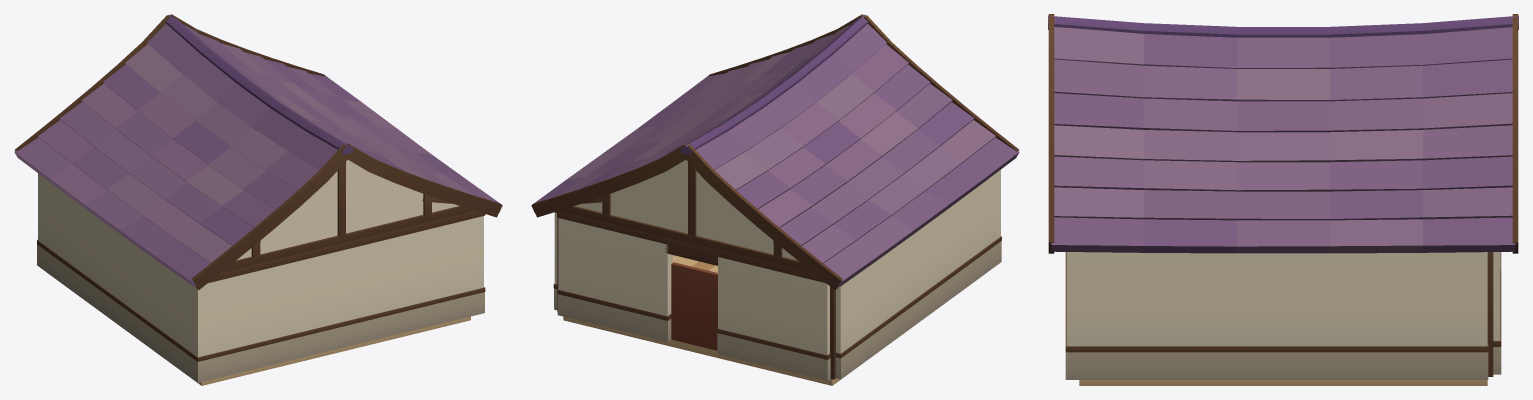
File: workshop_interior_32.glb
3 views of the same model, side by side, from view 1: azimuth 30°, elevation 25°; view 2: azimuth 150°, elevation 25°; view 3: azimuth 270°, elevation 25° (orthographic). The views are drawn at different scales.
Parts seen in each view (by area): view 1: workshop_roof, workshop_Wände, workshop_Balken, workshop_Boden; view 2: workshop_roof, workshop_Frontwand, workshop_Wände, workshop_Tür, workshop_Boden, workshop_Balken; view 3: workshop_roof, workshop_Wände, workshop_Balken, workshop_Boden, workshop_Frontwand.
Boxes of the visible parts, box(x1,y1,x2,y2) form: workshop_roof: box(14, 14, 502, 289); workshop_Wände: box(37, 173, 484, 382); workshop_Balken: box(37, 211, 485, 361); workshop_Boden: box(53, 277, 470, 385); workshop_roof: box(531, 14, 1019, 289); workshop_Frontwand: box(557, 211, 830, 380); workshop_Wände: box(554, 170, 1001, 379); workshop_Tür: box(671, 262, 717, 350); workshop_Boden: box(563, 255, 955, 385); workshop_Balken: box(553, 211, 1001, 379); workshop_roof: box(1048, 14, 1518, 253); workshop_Wände: box(1065, 252, 1488, 379); workshop_Balken: box(1065, 252, 1493, 376); workshop_Boden: box(1079, 380, 1487, 385); workshop_Frontwand: box(1493, 252, 1501, 374).
Bounding box in the file's own units: 37.12 × 24.58 × 36.9.
Materials: 1 (1 with a texture image).
